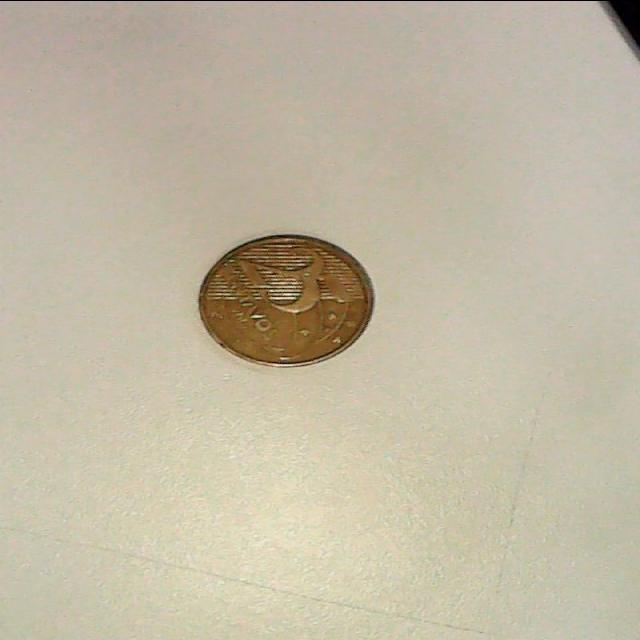25 cents: (192, 228, 384, 376)
